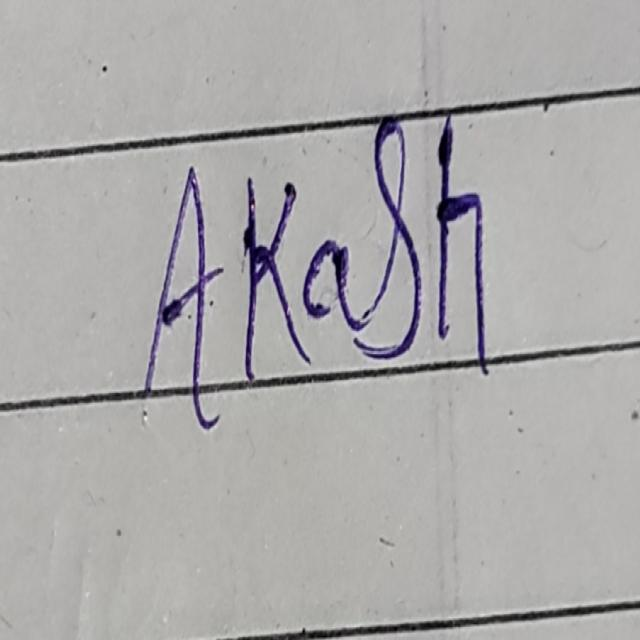signature: (147, 106, 492, 440)
